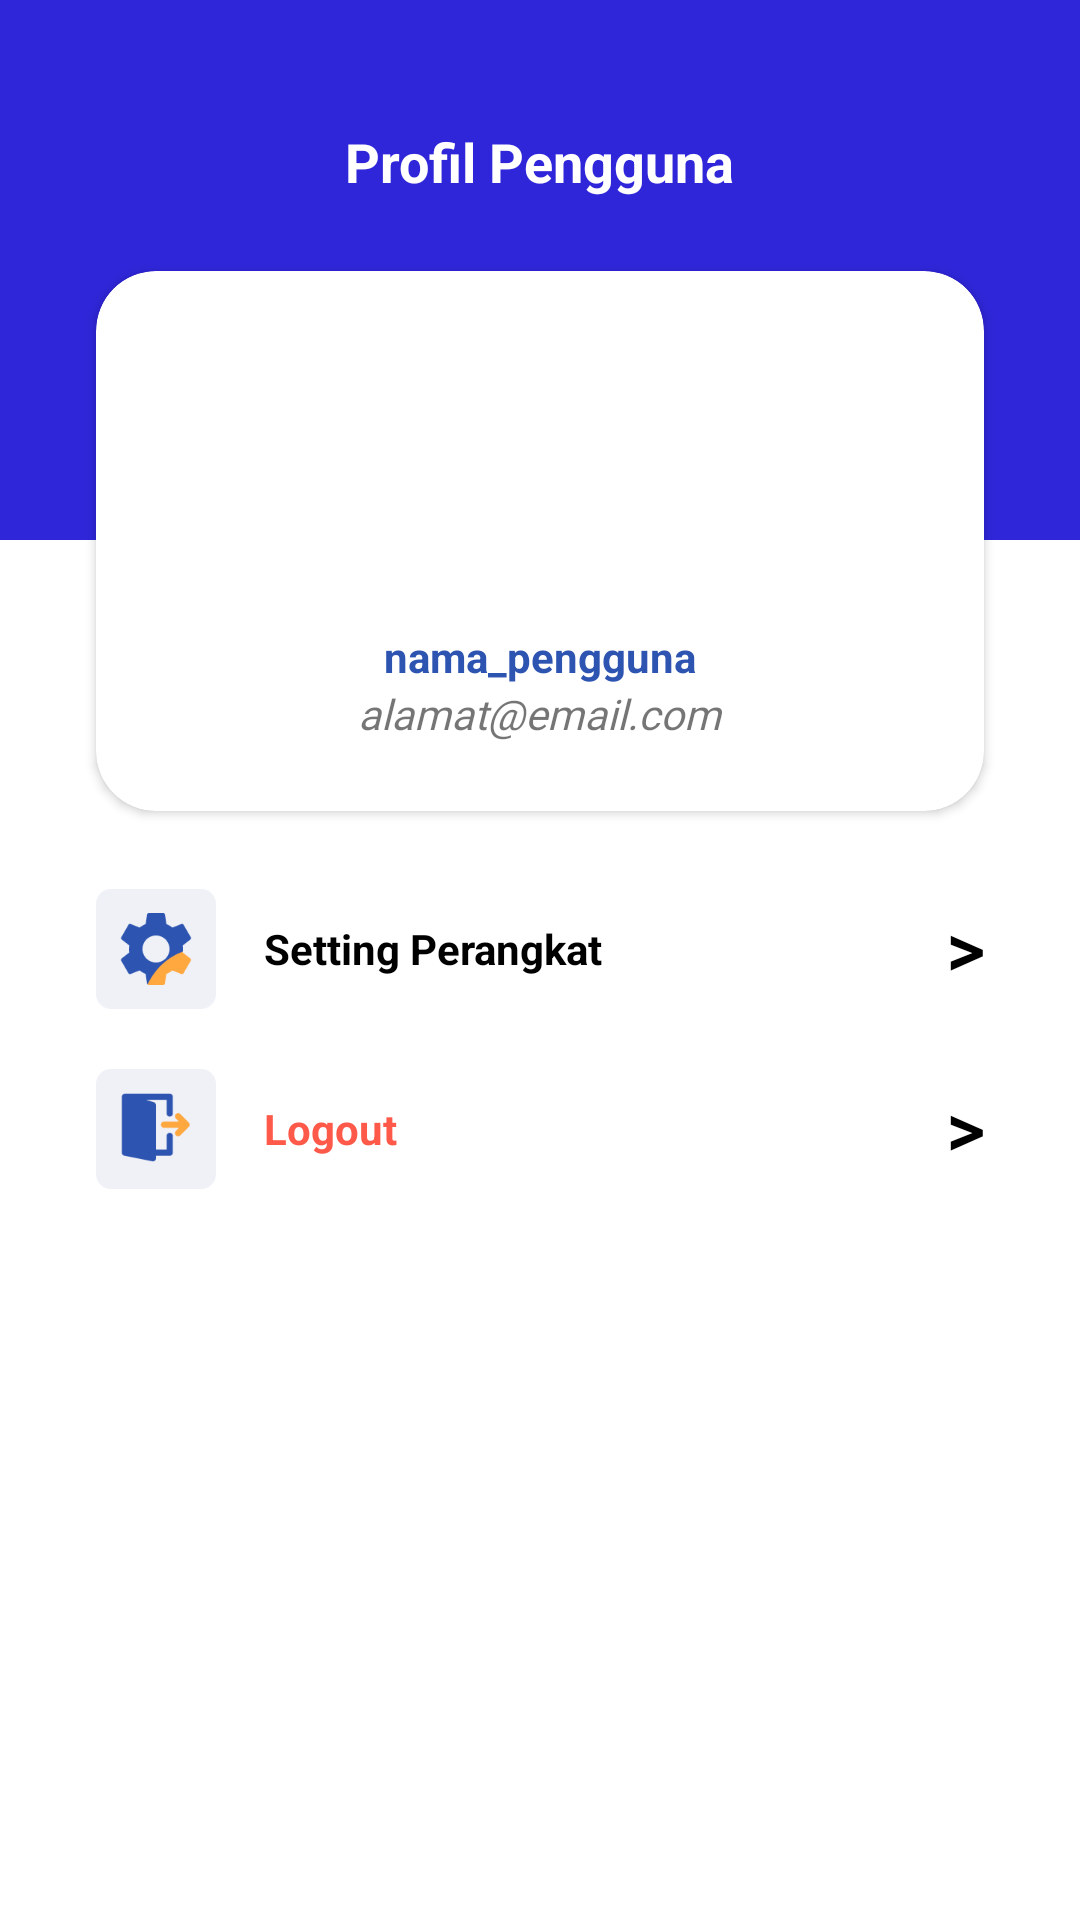

Icons on this 1080 x 1920 Android screen, each with its box as (x1, y1, x2, y2):
user setting: (120, 913, 192, 985)
